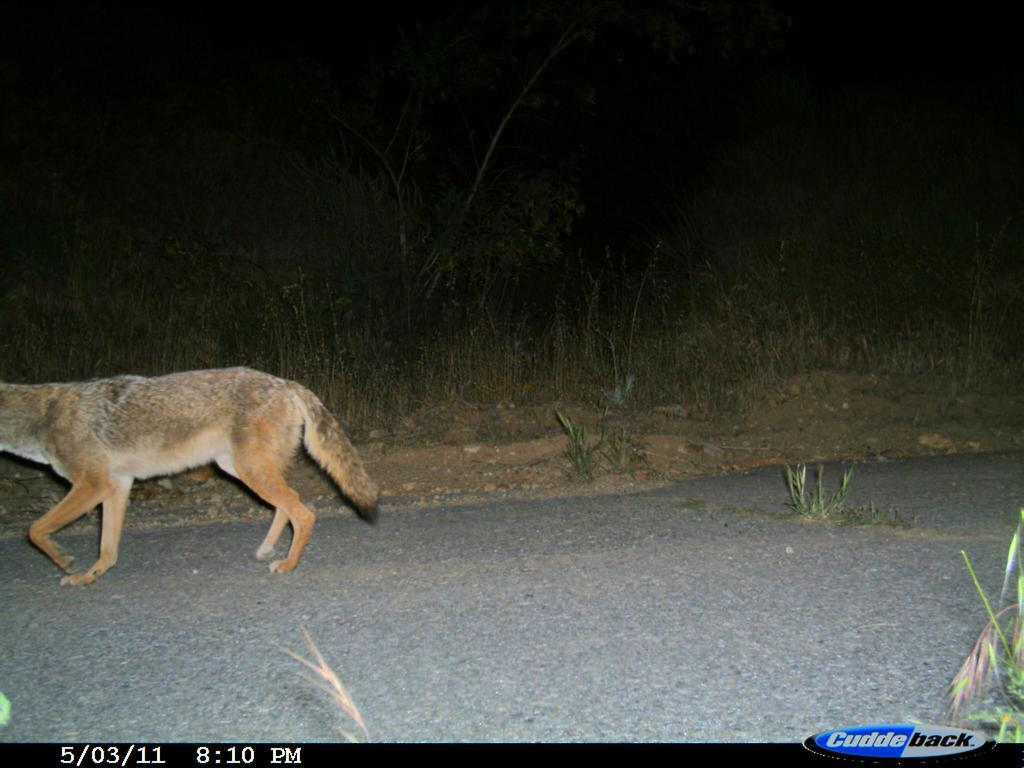coyote: (1, 356, 390, 597)
